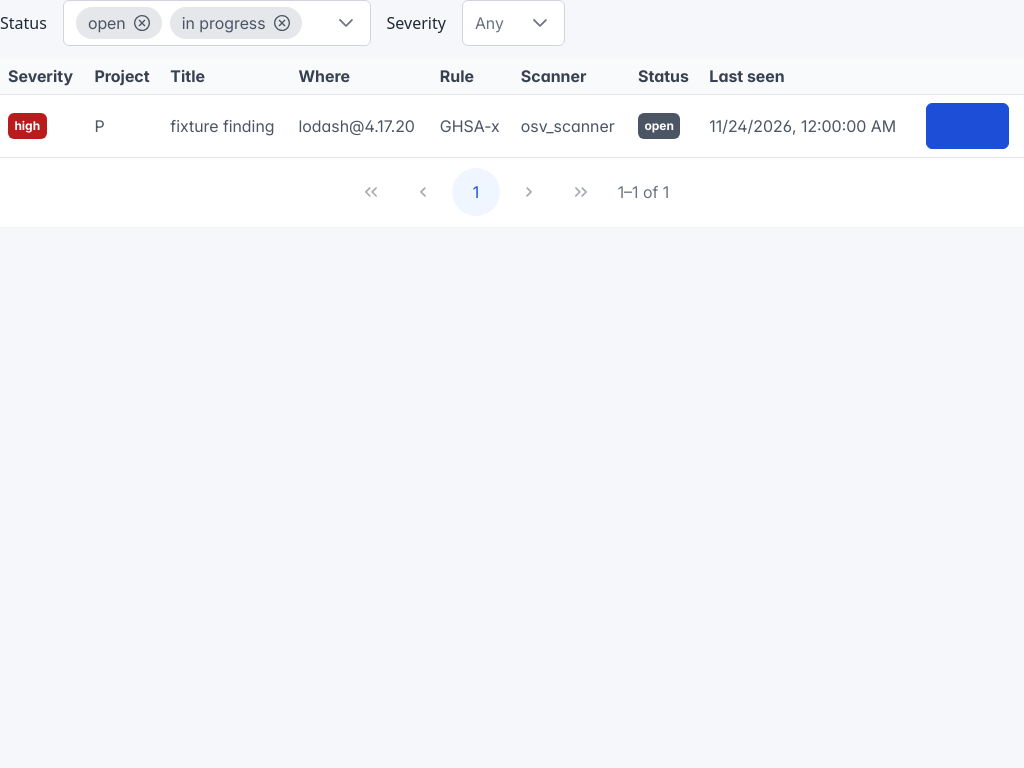
Test: finding triage › opens the finding and keeps Save disabled until a status is chosen
Click the button with aria-label "open fixture finding": (967, 126) [926, 103, 1009, 149]
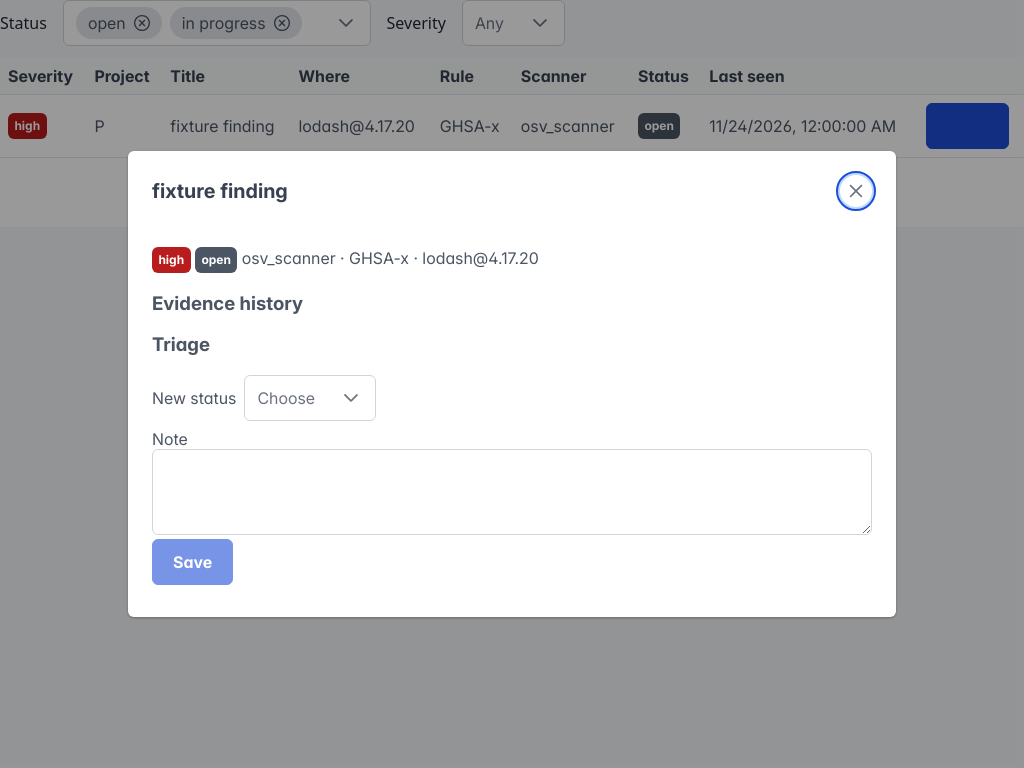
expect the heading "Evidence history" is shown: met, box [152, 292, 303, 315]
expect the button "Save" is disabled: met, box [152, 539, 233, 585]
expect the text box labelled "Note" is shown: met, box [152, 449, 872, 535]
